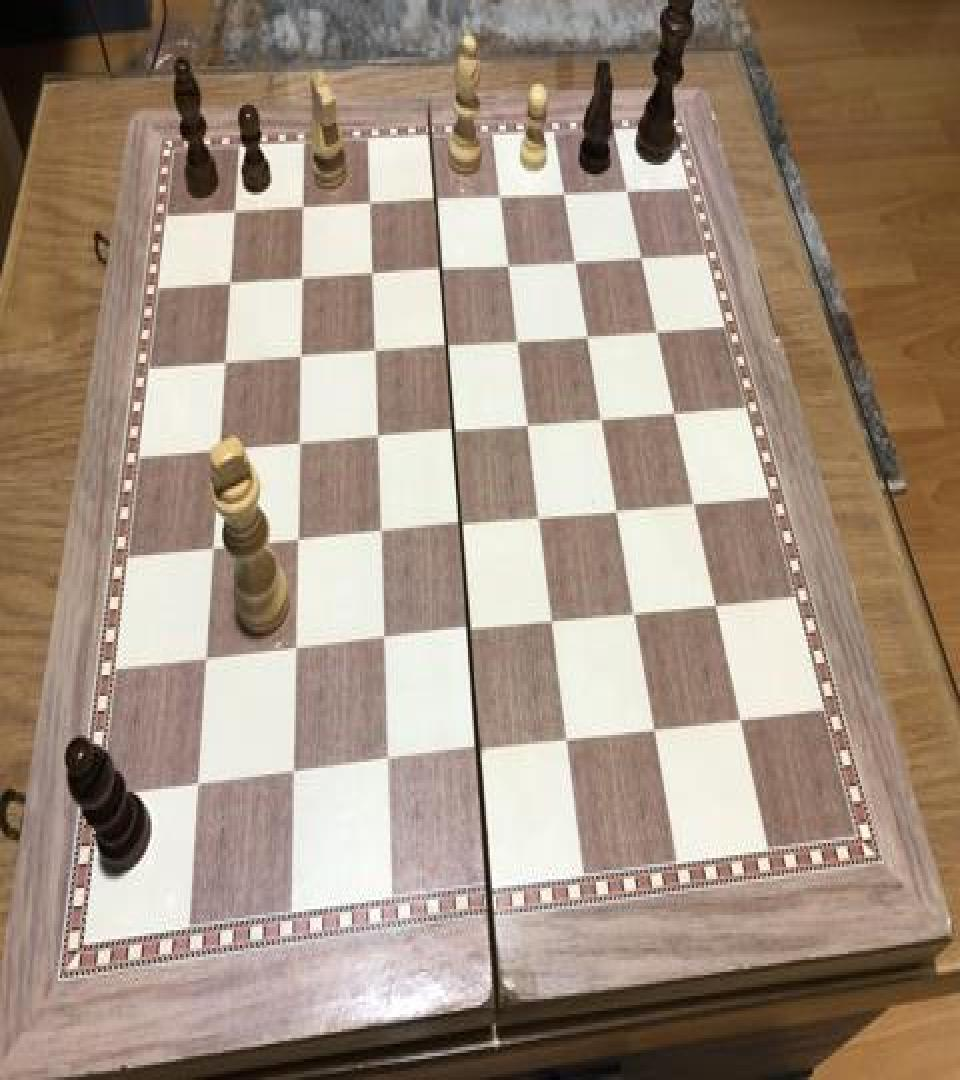xcorner: (702, 586, 726, 623), (622, 595, 646, 632), (371, 622, 395, 659), (642, 712, 666, 749), (466, 733, 490, 770), (184, 769, 208, 806), (614, 176, 638, 212), (552, 178, 576, 214), (489, 182, 513, 218), (424, 184, 448, 220), (292, 192, 316, 228), (225, 195, 249, 231), (628, 242, 652, 278), (563, 246, 587, 282), (497, 250, 521, 286), (430, 254, 454, 290), (361, 258, 385, 294), (291, 261, 315, 297), (220, 266, 244, 302), (644, 315, 668, 351), (576, 320, 600, 356), (506, 324, 530, 360), (435, 330, 459, 366), (363, 334, 387, 370), (289, 339, 313, 375), (214, 345, 238, 381), (661, 396, 685, 432), (590, 402, 614, 438), (516, 408, 540, 444), (442, 414, 466, 450), (365, 420, 389, 456), (287, 426, 311, 462), (208, 432, 232, 468), (681, 486, 705, 522), (605, 494, 629, 530), (528, 501, 552, 537), (449, 507, 473, 543), (368, 516, 392, 552), (285, 524, 309, 560), (201, 531, 225, 567), (541, 604, 565, 640), (457, 614, 481, 650), (283, 633, 307, 669), (193, 642, 217, 678), (727, 702, 751, 738), (555, 723, 579, 759), (374, 746, 398, 782), (280, 758, 304, 794), (359, 188, 383, 223)
